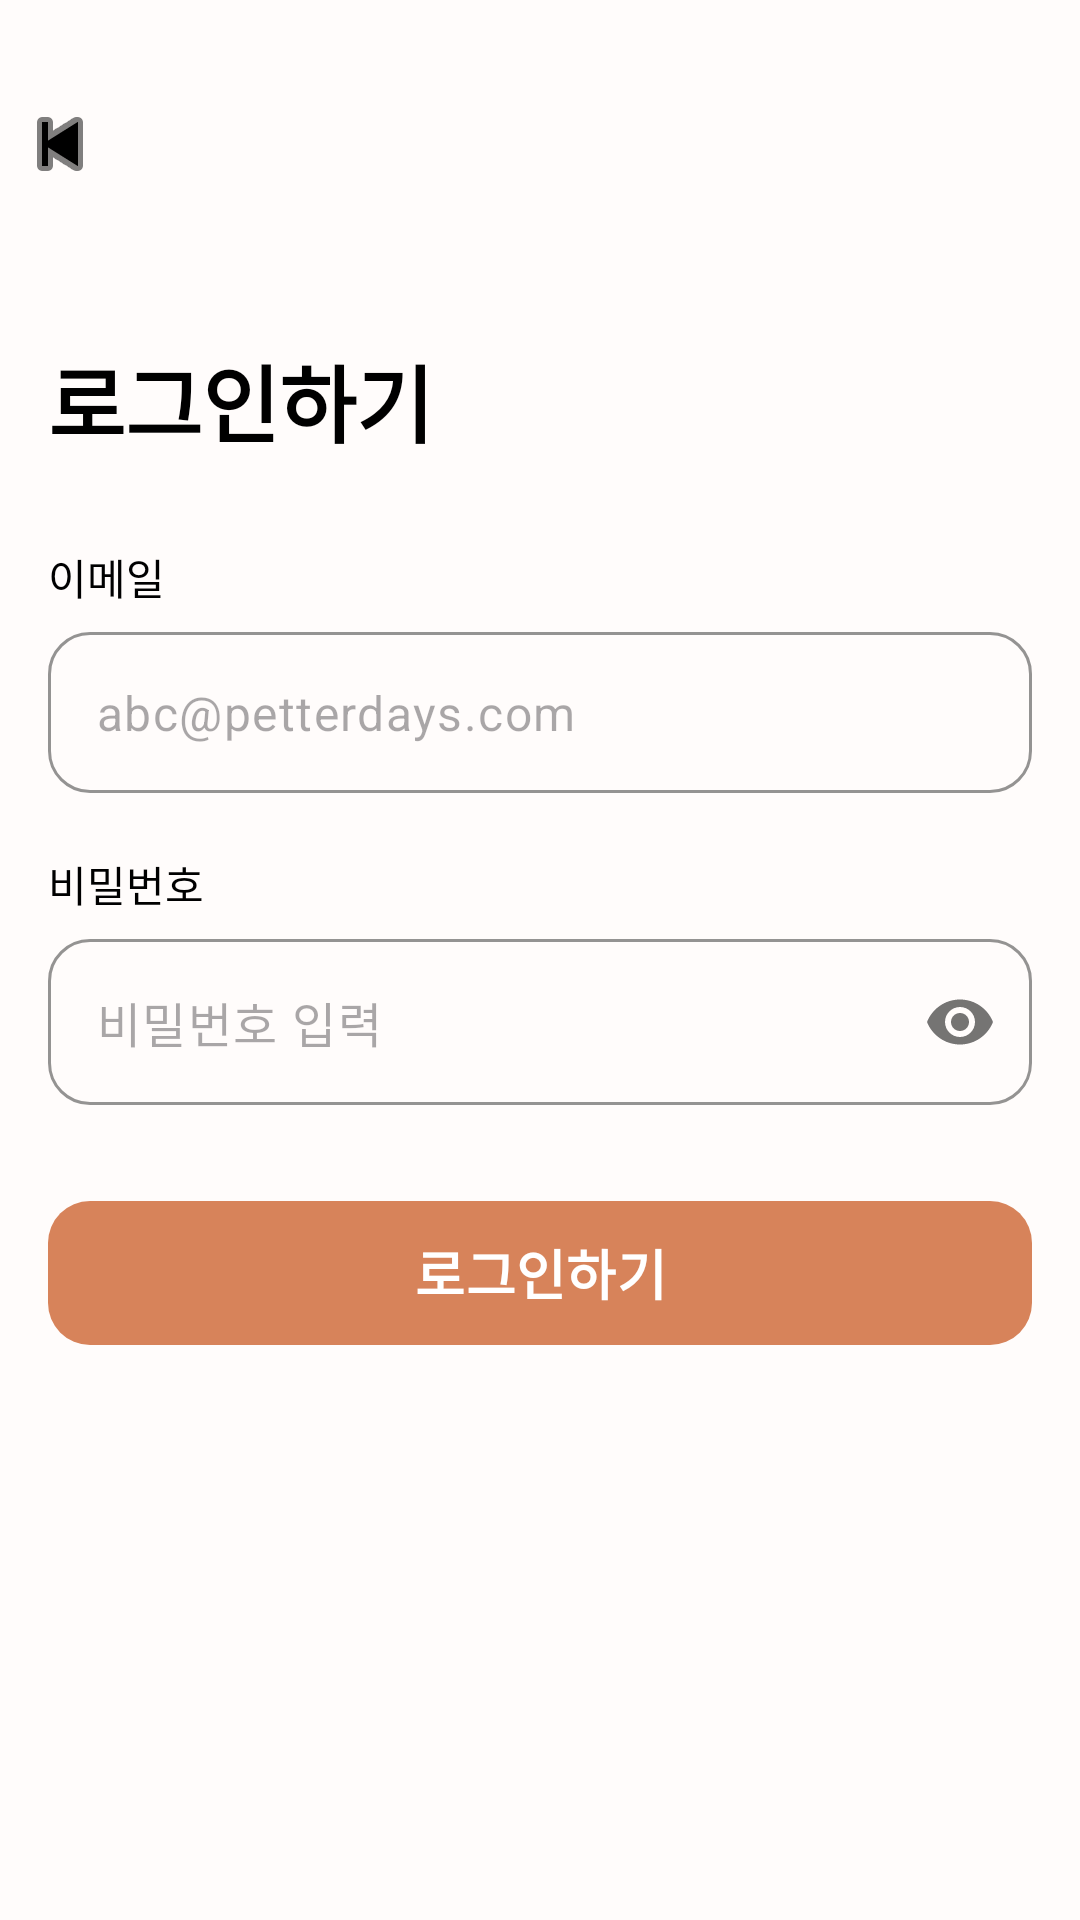

Screen size 1080x1920. Icon name, then its box in pixels as region(x1, y1, x2, y2):
start화면으로 이동: region(37, 117, 83, 171)
